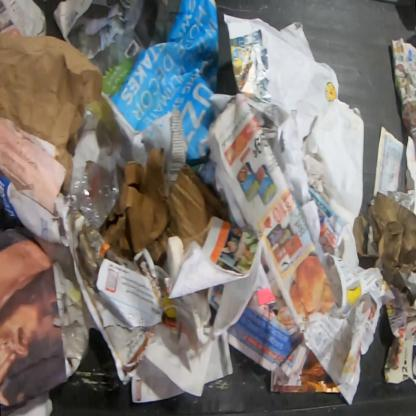cardboard: (98, 148, 232, 270), (352, 191, 415, 298)
rigid_plastic: (67, 144, 120, 230)
